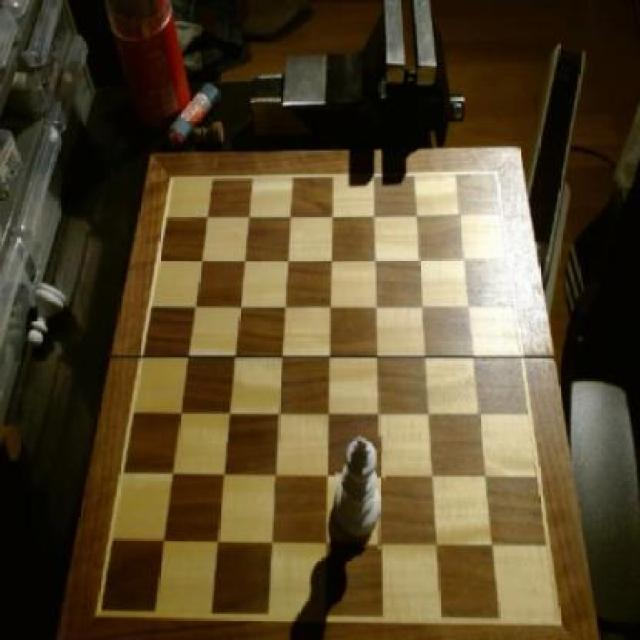white-bishop: (332, 434, 387, 550)
